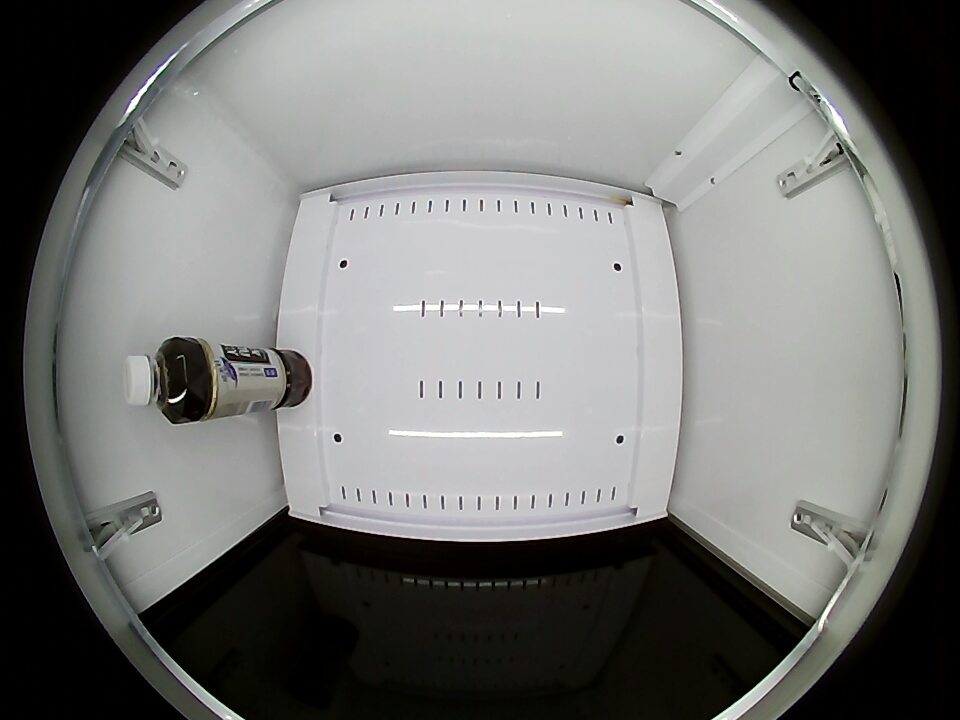wulongcha: (123, 336, 202, 424)
